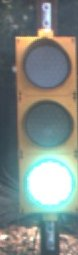Green: (11, 20, 78, 216)
